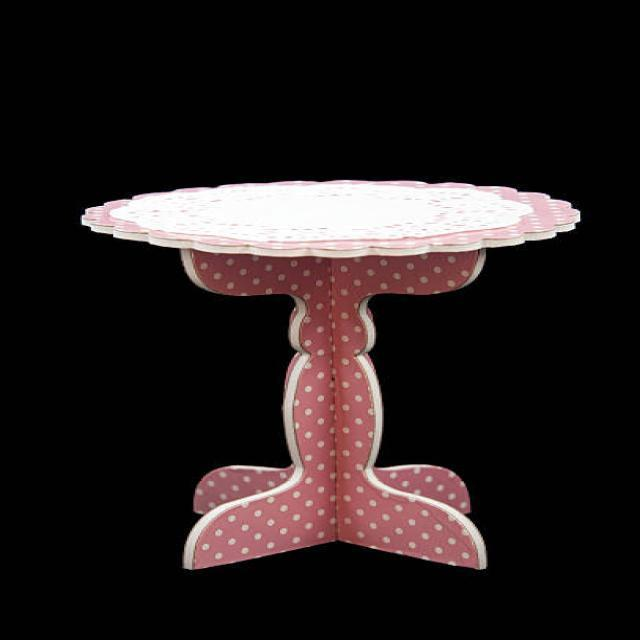table: (79, 178, 580, 571)
